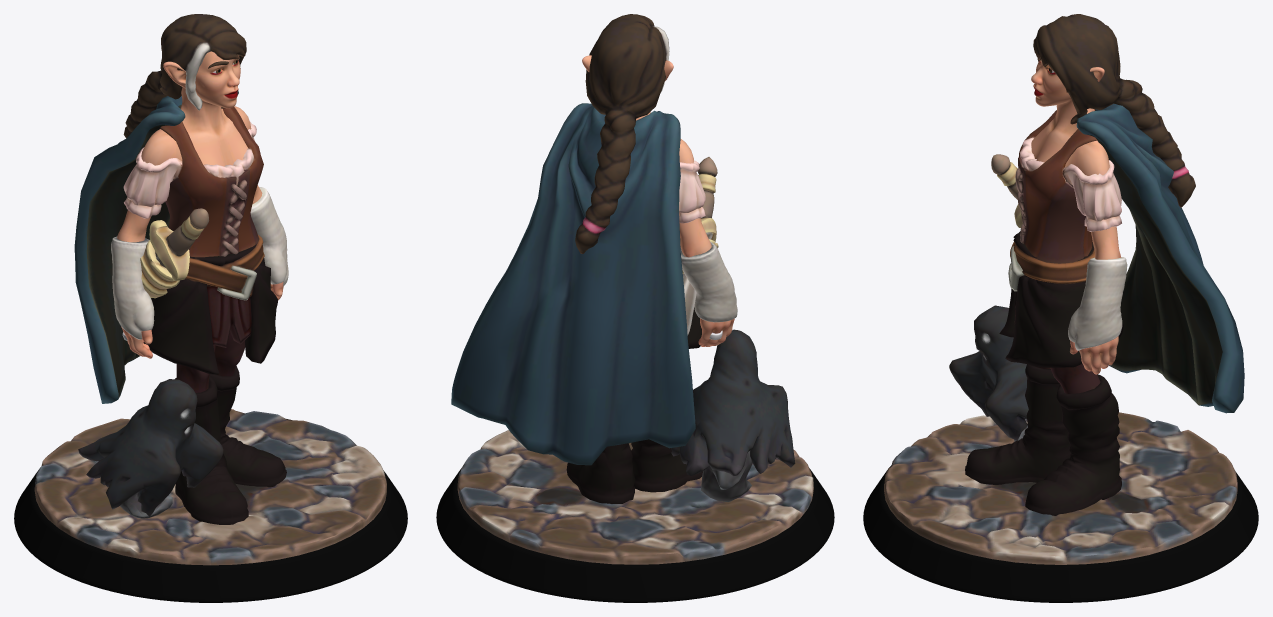
The model's file is eden.fbx.
The picture shows the model from 3 angles, left to right: view 1: azimuth 30°, elevation 25°; view 2: azimuth 150°, elevation 25°; view 3: azimuth 270°, elevation 25°; orthographic projection.
Parts seen in each view (by area): view 1: Eden; view 2: Eden; view 3: Eden.
Part boxes in pixels (bbox=[...]): Eden: bbox=[14, 14, 407, 602]; Eden: bbox=[436, 14, 834, 602]; Eden: bbox=[863, 14, 1258, 602].
Size of the model in its own units: 68.58 by 95.88 by 68.58.
Materials: 1 (1 with a texture image).
